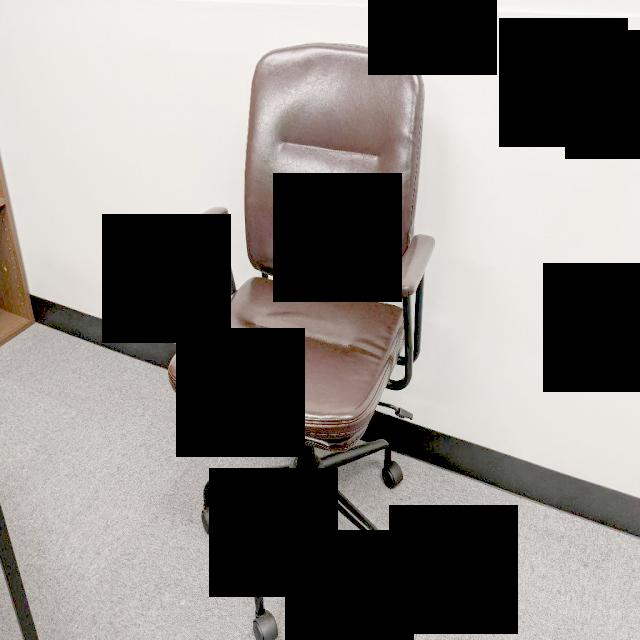chair vintage: (153, 41, 436, 640)
